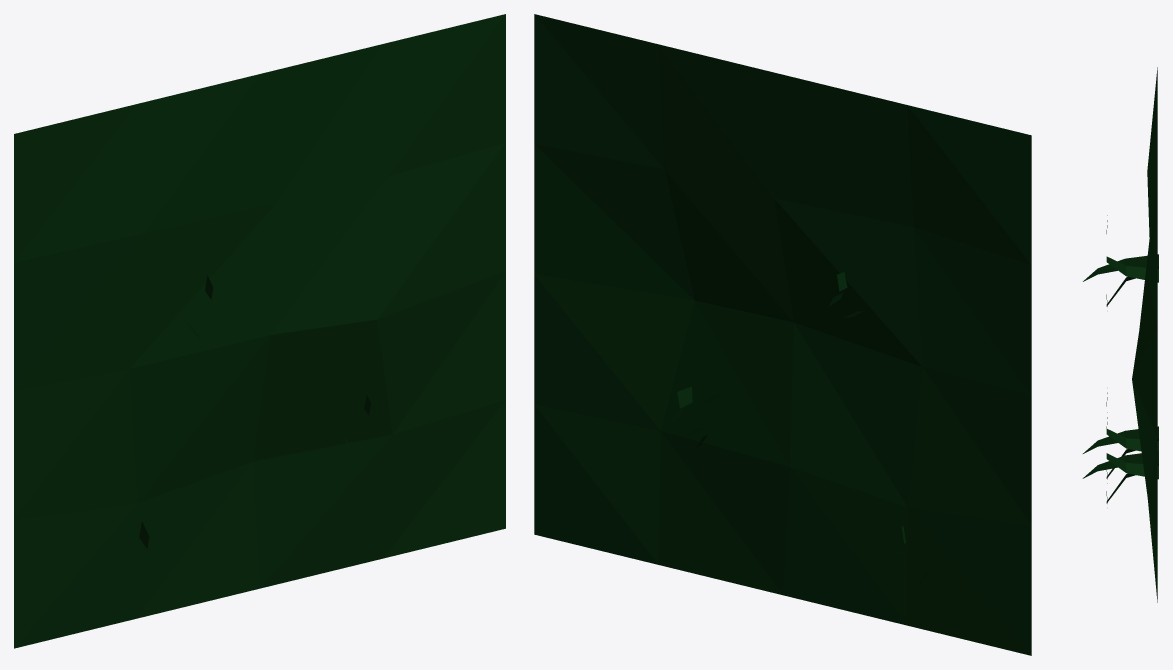
The model's file is GrassTile001.obj.
The picture shows the model from 3 angles, left to right: view 1: azimuth 30°, elevation 25°; view 2: azimuth 150°, elevation 25°; view 3: azimuth 270°, elevation 25°; orthographic projection. The views are drawn at different scales.
Parts seen in each view (by area): view 1: Plane001.008; view 2: Plane001.008; view 3: Plane001.008, Plane012.003, Plane017.003, Plane027.003, Plane022.003, Plane003.003, Plane002.003.
Part boxes in pixels (<box>): Plane001.008: <box>14,14,505,648</box>; Plane001.008: <box>534,14,1031,655</box>; Plane001.008: <box>1132,67,1157,602</box>; Plane012.003: <box>1083,254,1158,281</box>; Plane017.003: <box>1106,256,1158,282</box>; Plane027.003: <box>1106,453,1158,479</box>; Plane022.003: <box>1082,451,1158,478</box>; Plane003.003: <box>1083,426,1158,453</box>; Plane002.003: <box>1106,429,1158,451</box>.
Bounding box in the file's own units: 51.2 × 51.54 × 10.47.
